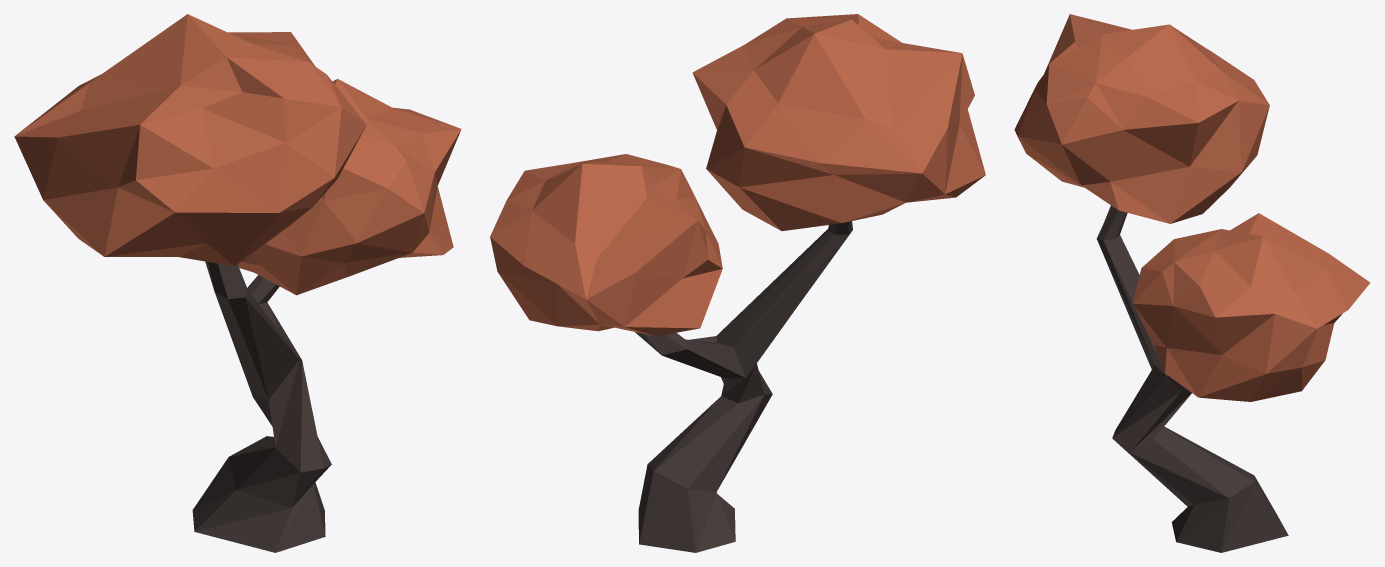
The model's file is KOKS_003.FBX.
The picture shows the model from 3 angles, left to right: view 1: azimuth 30°, elevation 25°; view 2: azimuth 150°, elevation 25°; view 3: azimuth 270°, elevation 25°; orthographic projection. The views are drawn at different scales.
Parts seen in each view (by area): view 1: KOKS_003; view 2: KOKS_003; view 3: KOKS_003.
Part boxes in pixels (left/top/right/bottom): KOKS_003: left=14, top=14, right=461, bottom=552; KOKS_003: left=490, top=14, right=985, bottom=552; KOKS_003: left=1014, top=14, right=1370, bottom=552.
Bounding box in the file's own units: 6423 × 7659 × 5351.
1 material, 1 textured.
